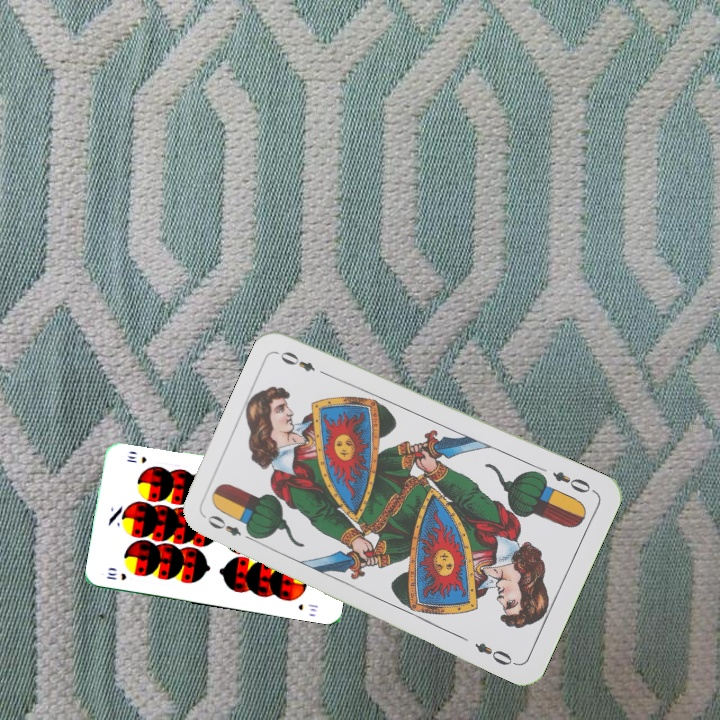EO: (203, 511, 258, 544), (548, 467, 598, 496)
S10: (103, 568, 129, 583)
